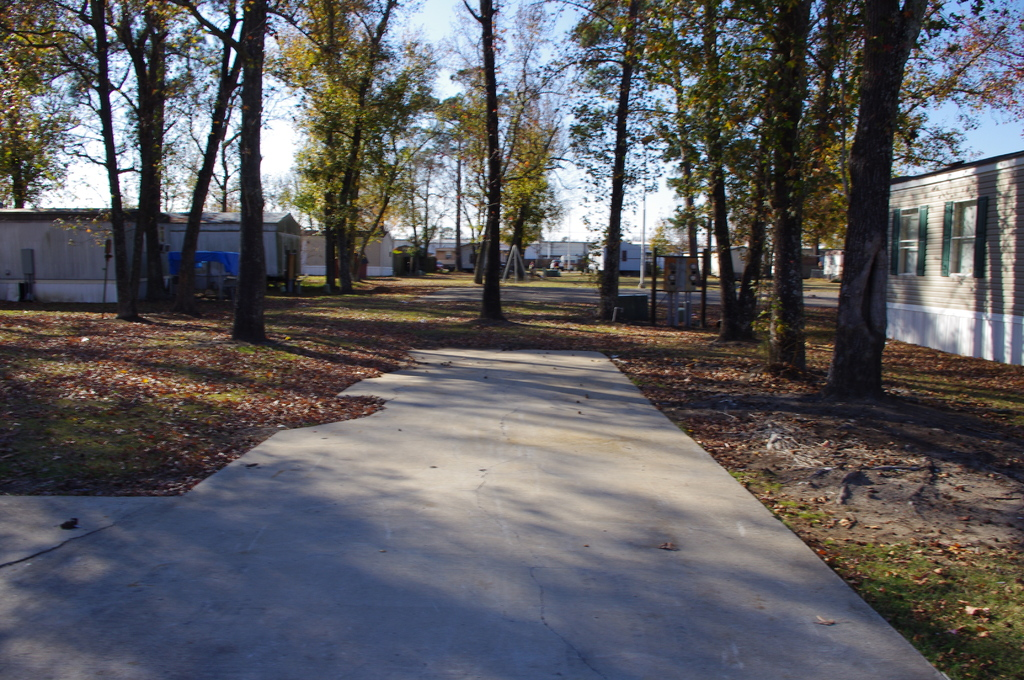Tree: (565, 0, 1023, 391), (0, 0, 370, 318), (256, 0, 439, 299), (500, 85, 561, 283), (440, 64, 489, 283), (672, 229, 693, 255), (650, 220, 667, 251), (434, 224, 463, 236)
